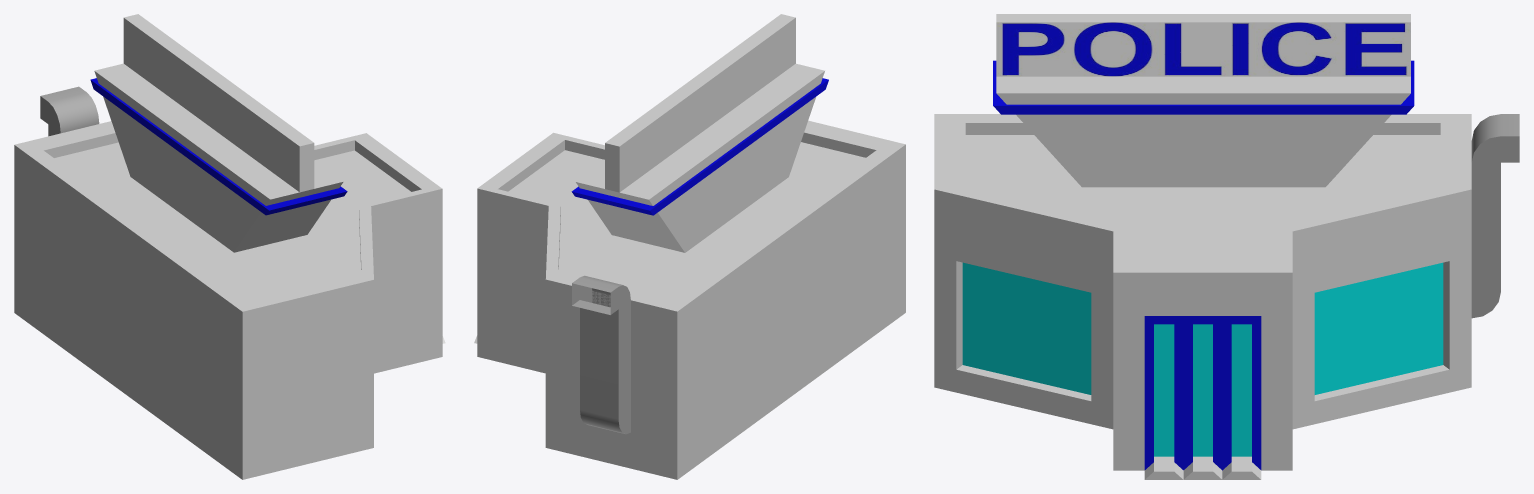
Rendered from police.fbx.
The picture shows the model from 3 angles, left to right: view 1: azimuth 30°, elevation 25°; view 2: azimuth 150°, elevation 25°; view 3: azimuth 270°, elevation 25°; orthographic projection. The views are drawn at different scales.
Parts seen in each view (by area): view 1: building, roof, ventilation; view 2: building, roof, ventilation; view 3: building, roof, ventilation.
Boxes of the visible parts, x1=… form: building: x1=14, y1=121, x2=445, y2=479; roof: x1=90, y1=14, x2=347, y2=252; ventilation: x1=40, y1=86, x2=99, y2=136; building: x1=474, y1=120, x2=905, y2=479; roof: x1=571, y1=14, x2=828, y2=252; ventilation: x1=572, y1=275, x2=630, y2=434; building: x1=934, y1=114, x2=1471, y2=479; roof: x1=993, y1=14, x2=1414, y2=187; ventilation: x1=1471, y1=114, x2=1519, y2=318.
Bounding box in the file's own units: 4.7 × 4.51 × 6.92.
5 materials, 1 textured.
